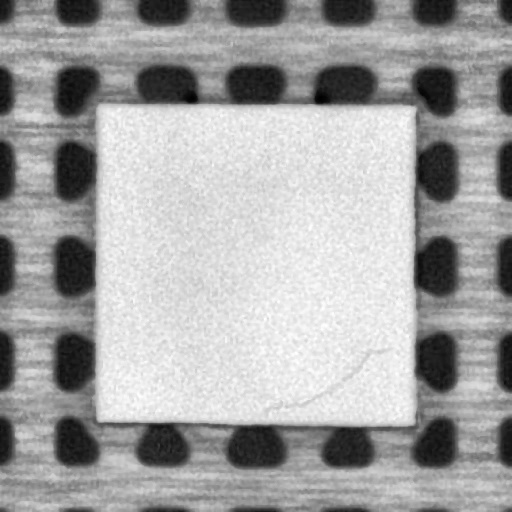DIE_CRACK: (286, 342, 391, 409)
